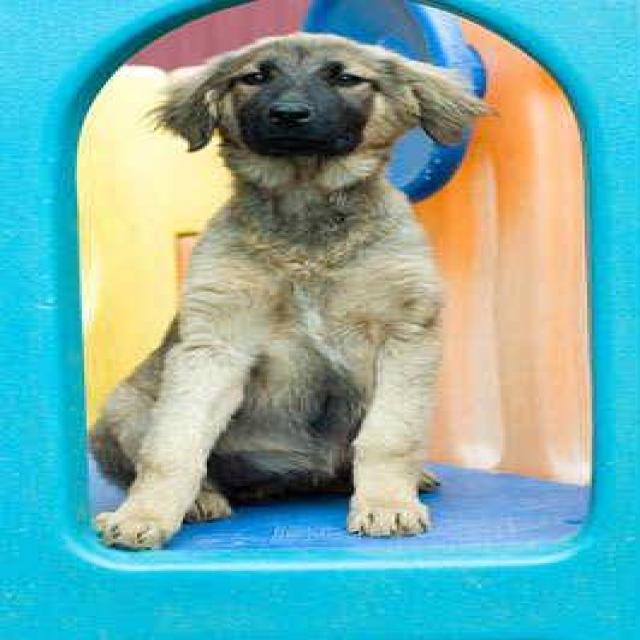dog: (87, 31, 498, 550)
